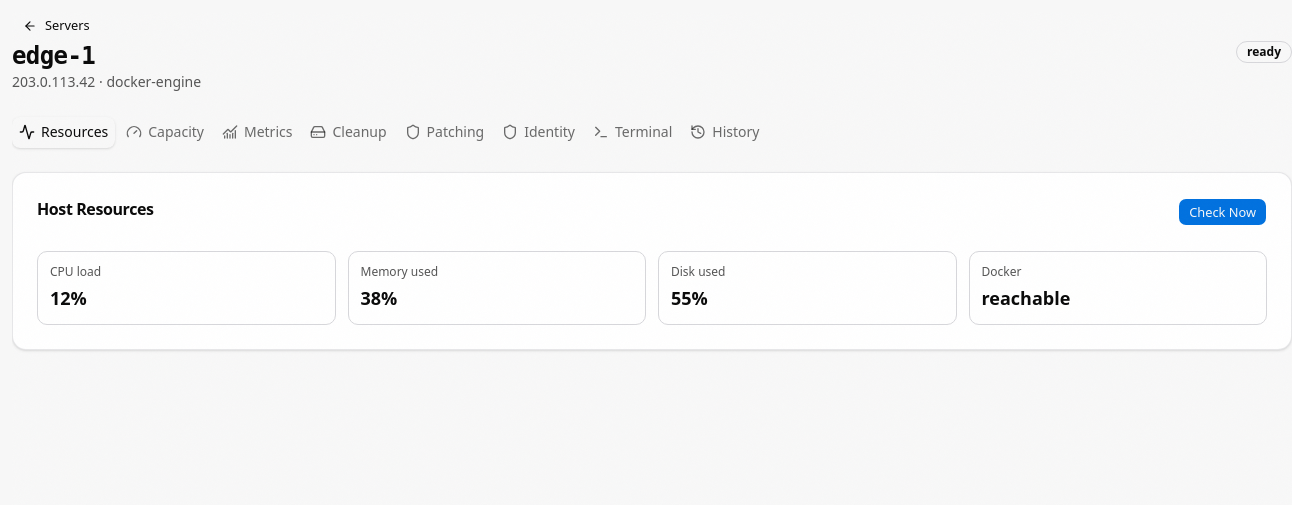
Test: ServerDetailPage › shows capacity as read-only without server write permission
Click the tab with test id "server-detail-capacity-tab-srv_1": [165, 132] box [119,116,211,148]
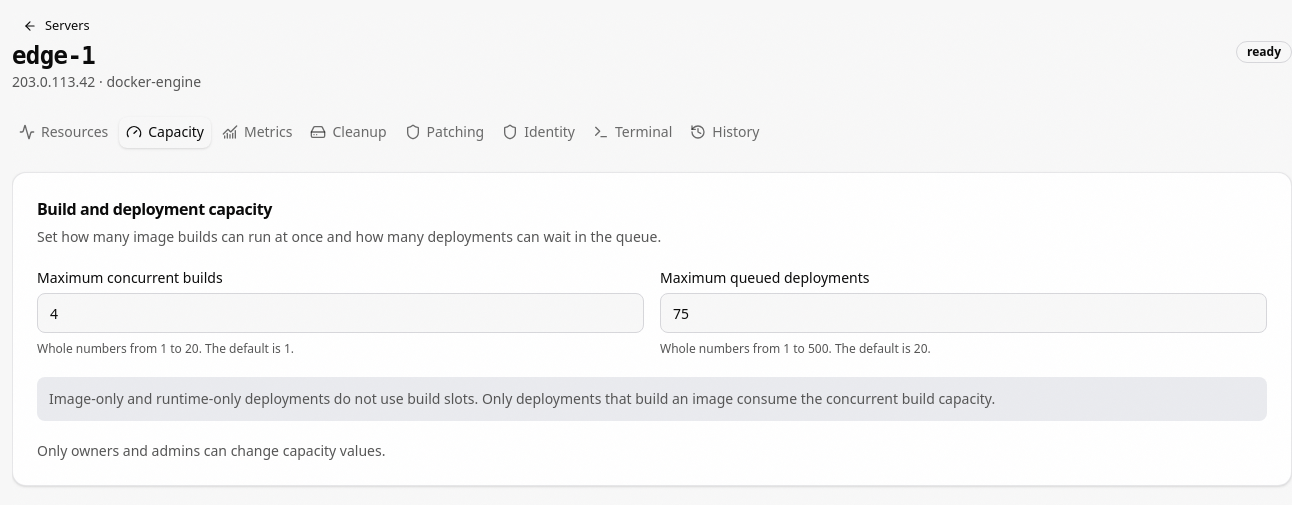
Result: the text "Only owners and admins can change capacity values." is shown at [37,441,386,460]
